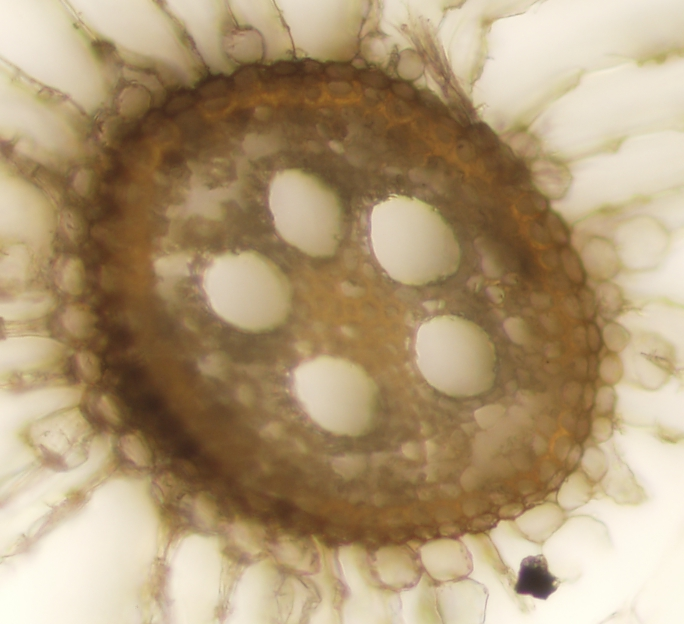lm: (371, 191, 461, 286), (291, 353, 388, 434), (203, 249, 294, 333), (268, 167, 345, 258), (415, 314, 498, 397)
